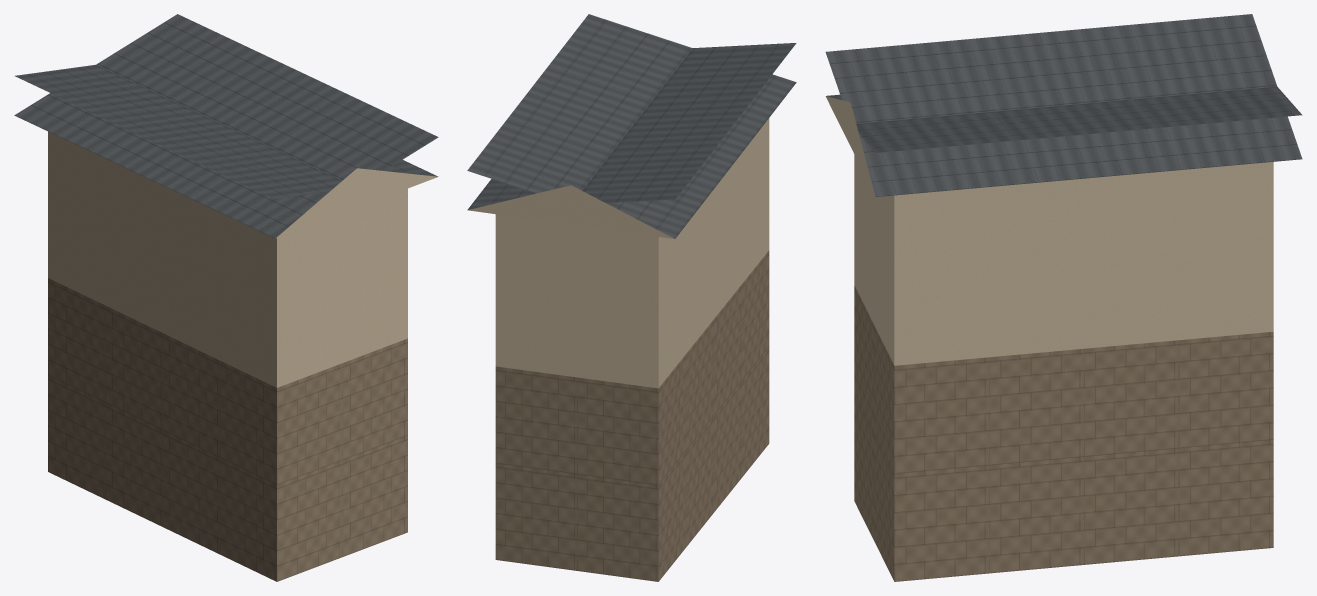
Rendered from bld_c32_48_245.gltf.
3 renders of one model, left to right at view 1: azimuth 30°, elevation 25°; view 2: azimuth 150°, elevation 25°; view 3: azimuth 270°, elevation 25°, orthographic. The views are drawn at different scales.
Visible parts, largest first — view 1: bld_c32_48_245; view 2: bld_c32_48_245; view 3: bld_c32_48_245.
Part boxes in pixels (<box>): bld_c32_48_245: <box>14,14,438,581</box>; bld_c32_48_245: <box>467,14,796,581</box>; bld_c32_48_245: <box>825,14,1302,581</box>.
Bounding box in the file's own units: 6.76 × 10 × 9.8.
Materials: 4 (4 with a texture image).
